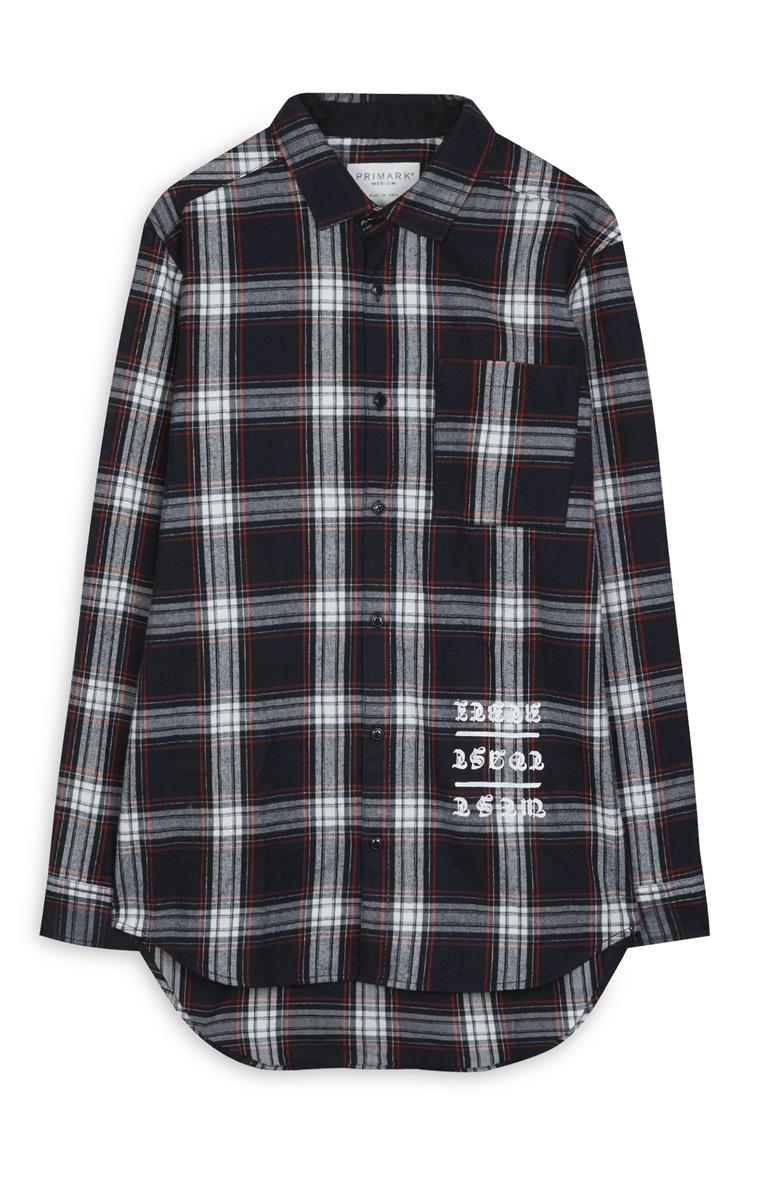teeshirt: (34, 76, 716, 1081)
